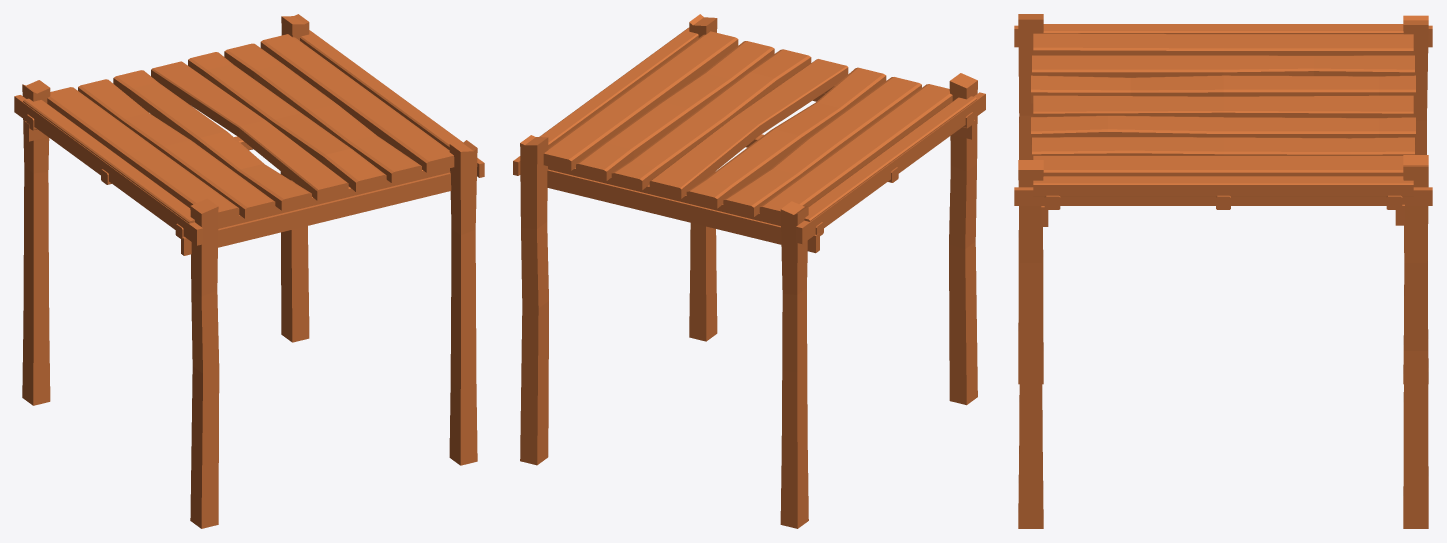
Rendered from Wood Base 4.glb.
3 views of the same model, side by side, from view 1: azimuth 30°, elevation 25°; view 2: azimuth 150°, elevation 25°; view 3: azimuth 270°, elevation 25° (orthographic). The views are drawn at different scales.
Visible parts, largest first — view 1: WoodBase2; view 2: WoodBase2; view 3: WoodBase2.
Boxes of the visible parts, bbox=[...] form: WoodBase2: bbox=[14, 14, 484, 528]; WoodBase2: bbox=[513, 14, 985, 528]; WoodBase2: bbox=[1014, 14, 1432, 528].
Bounding box in the file's own units: 2 × 2.09 × 2.17.
